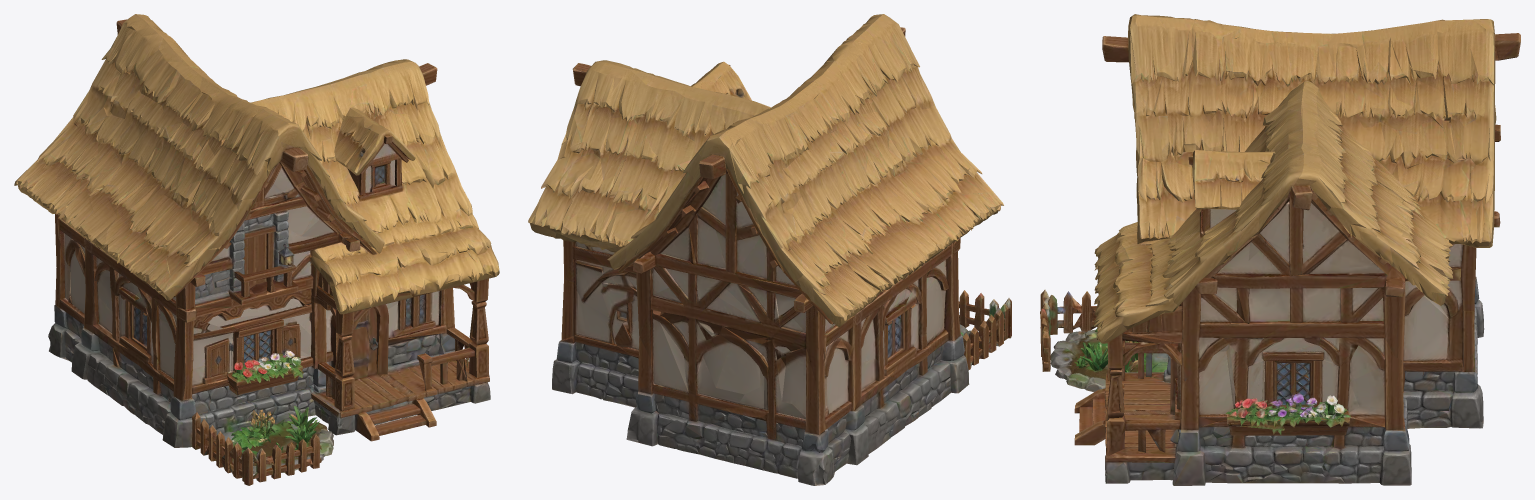
Rendered from bld_chiefhouse.glb.
3 views of the same model, side by side, from view 1: azimuth 30°, elevation 25°; view 2: azimuth 150°, elevation 25°; view 3: azimuth 270°, elevation 25° (orthographic). The views are drawn at different scales.
Visible parts, largest first — view 1: output_unwrapped; view 2: output_unwrapped; view 3: output_unwrapped.
Boxes of the visible parts, bbox=[...] form: output_unwrapped: bbox=[14, 14, 499, 485]; output_unwrapped: bbox=[528, 14, 1011, 485]; output_unwrapped: bbox=[1040, 14, 1520, 485].
Size of the model in its own units: 1.79 by 1.58 by 1.9.
Materials: 1 (1 with a texture image).
